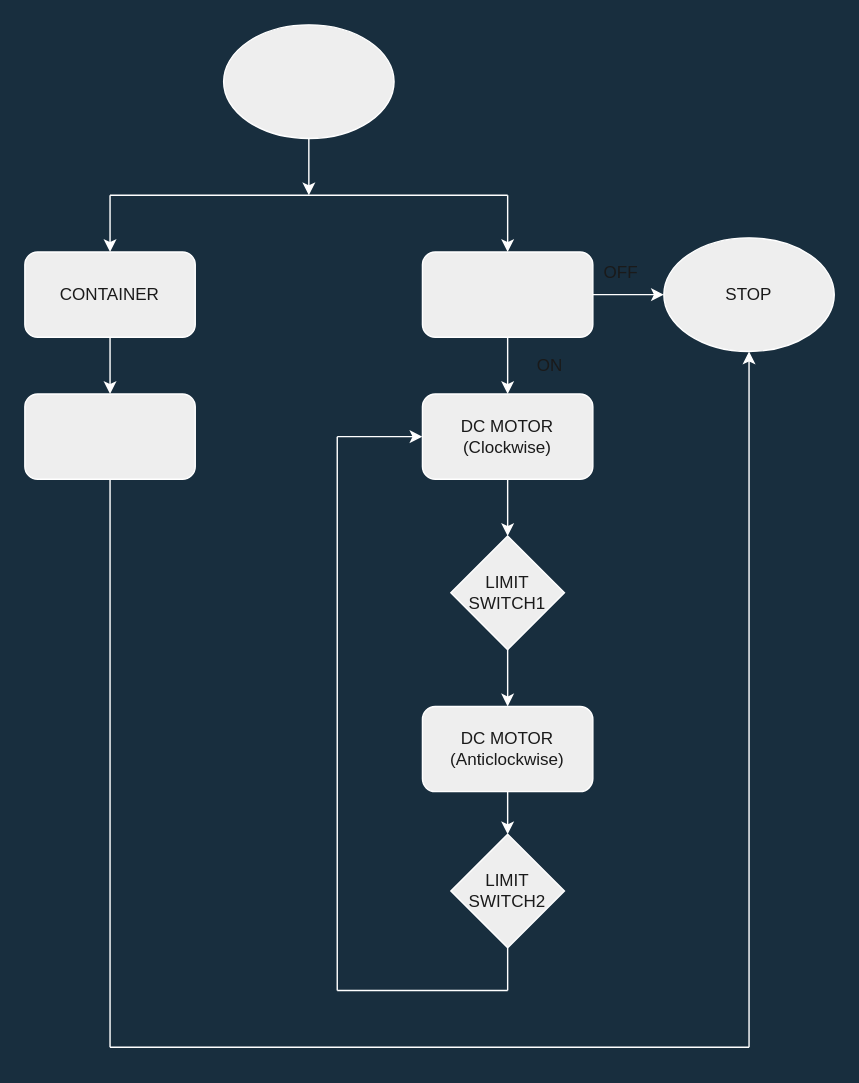
This 859x1083 diagram has some shape labels left out. Here are the shapes that lost their labels. From the top down, the centre of each, then its label:
(308,80): START
(507,294): SWITCH
(109,436): PUMP
